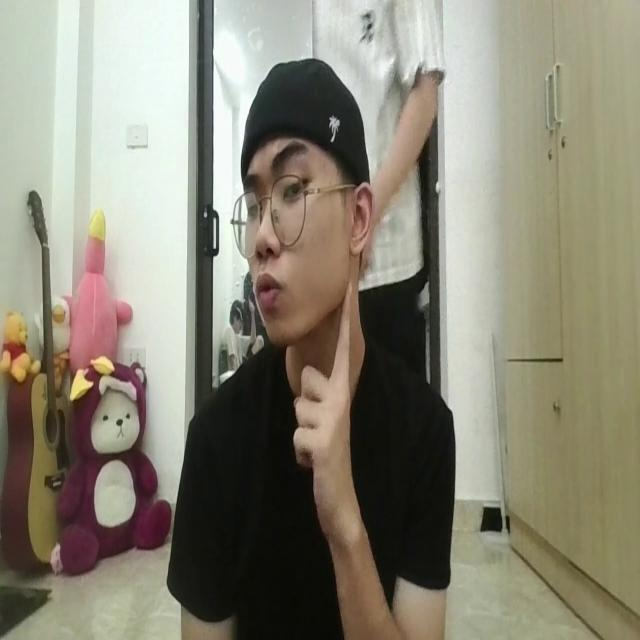extra_person: (312, 1, 444, 366)
student: (169, 59, 451, 640)
